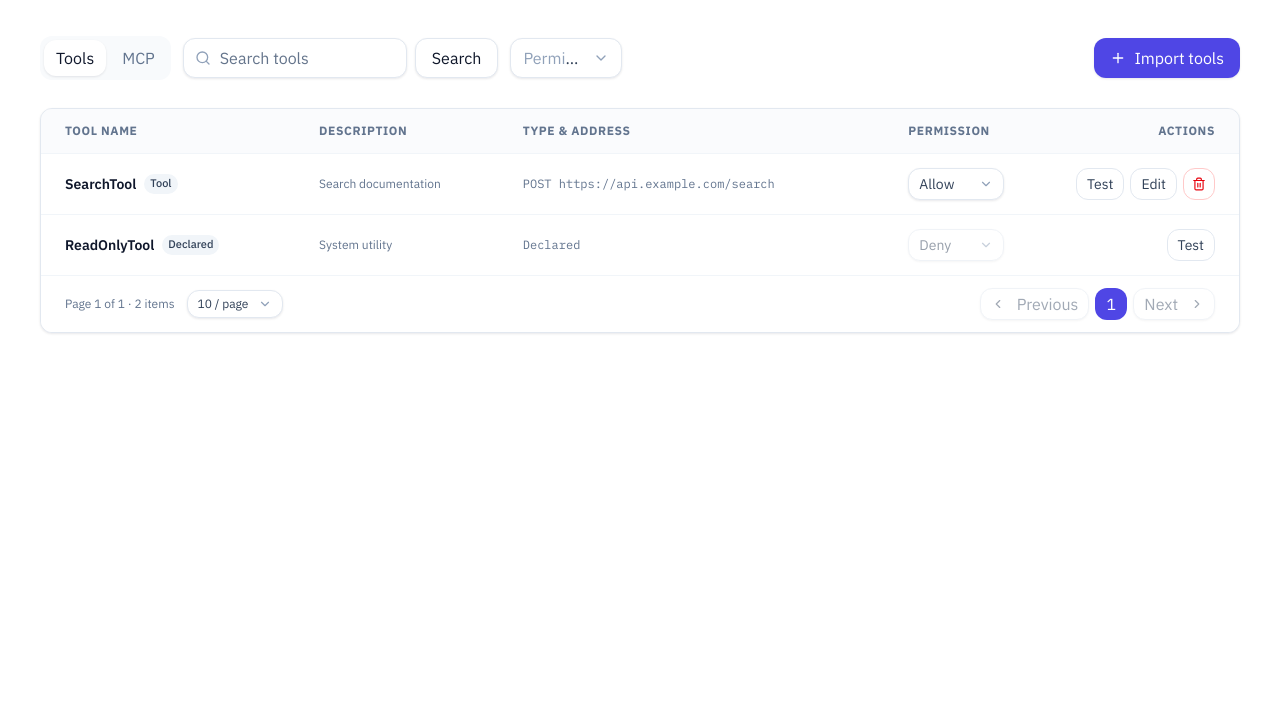
Test: ToolsPage › opens ToolEditorPanel when Edit button is clicked on a tool
The image size is (1280, 720).
Check: the text "SearchTool" is shown, box [65,174,136,194]
What coordinates should you click on to do the following:
click the button "Edit"
I would click on:
 (1154, 184)
Its box is [1130,168,1177,200].
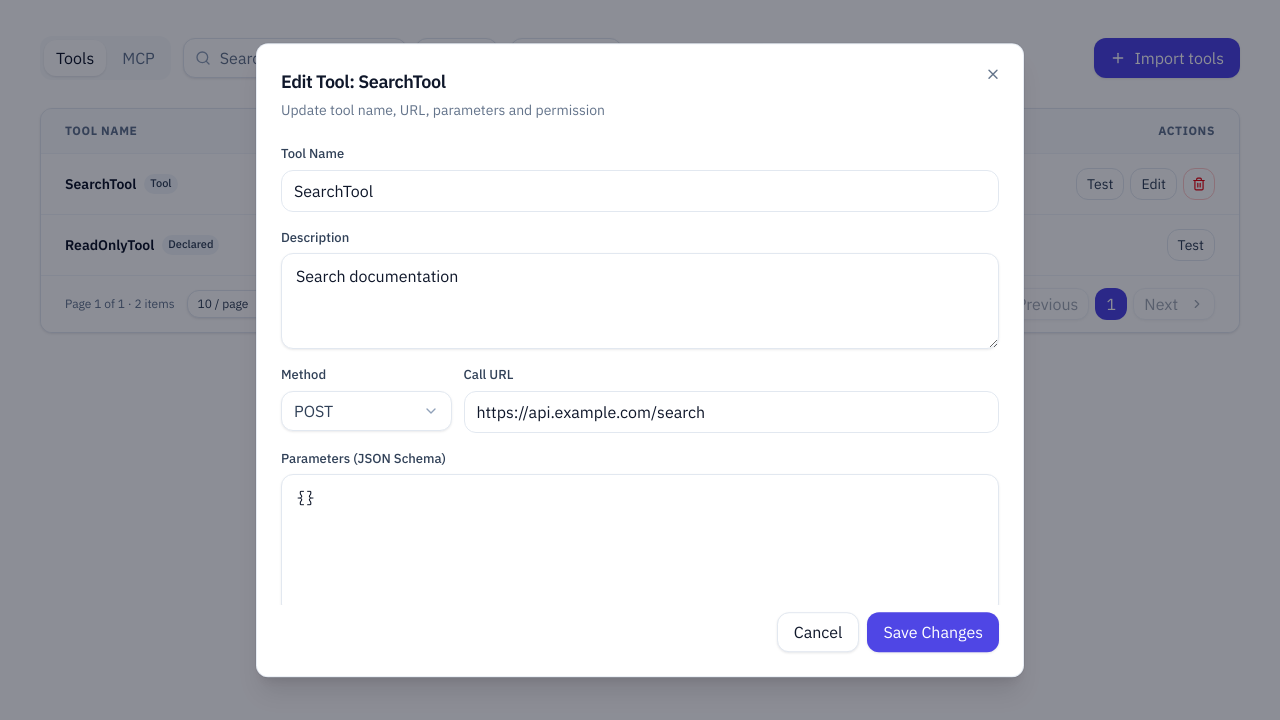
Check: the heading "Edit Tool: SearchTool" is shown, box [281,70,446,93]
